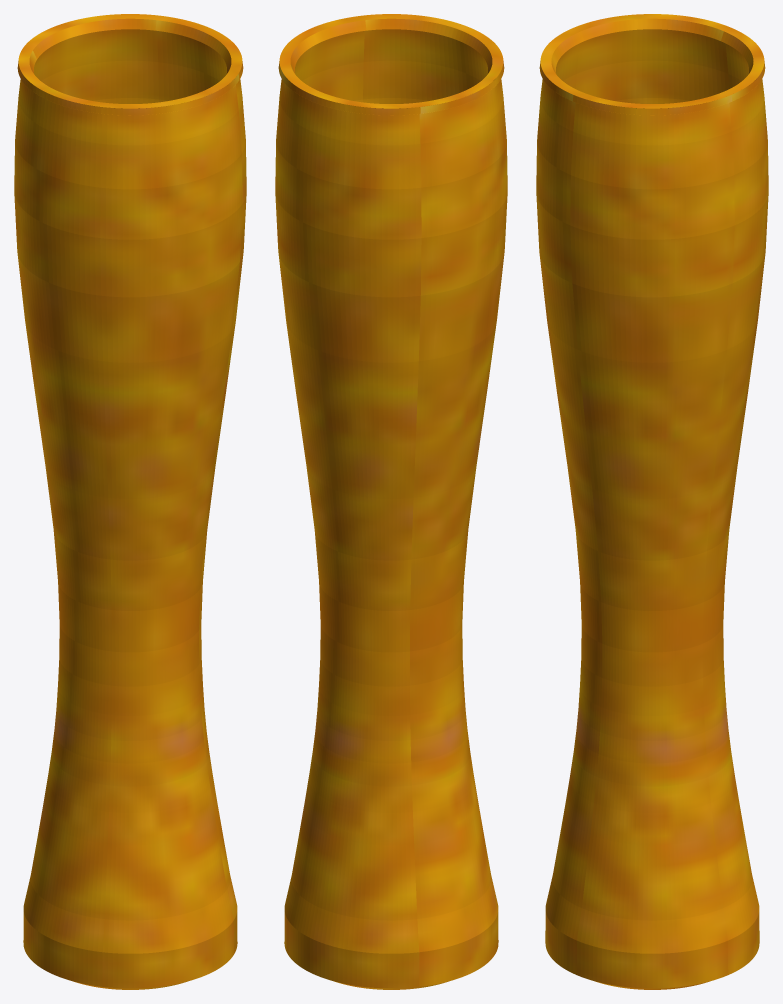
Rendered from beer_mug.dae.
3 renders of one model, left to right at view 1: azimuth 30°, elevation 25°; view 2: azimuth 150°, elevation 25°; view 3: azimuth 270°, elevation 25°, orthographic.
Parts seen in each view (by area): view 1: Beer_Pint_75; view 2: Beer_Pint_75; view 3: Beer_Pint_75.
Part boxes in pixels (x1,y1,x2,y2): Beer_Pint_75: (14, 14, 246, 989); Beer_Pint_75: (275, 14, 507, 989); Beer_Pint_75: (536, 14, 768, 989).
Size of the model in its own units: 0.0675 by 0.0675 by 0.285.
